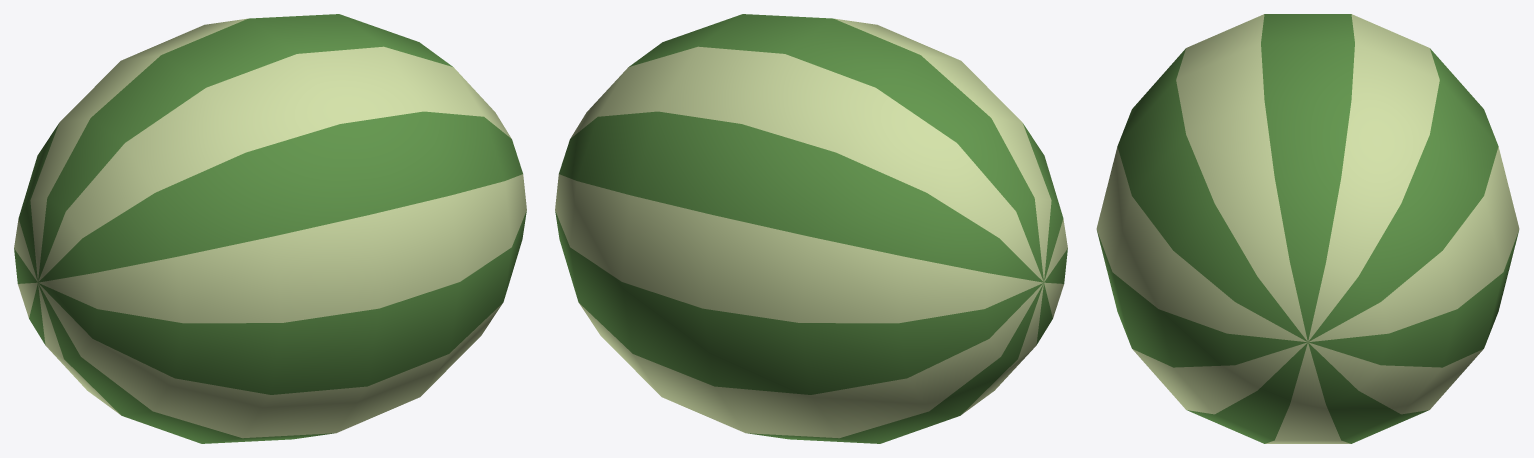
File: FoodWatermelon_01.glb
3 views of the same model, side by side, from view 1: azimuth 30°, elevation 25°; view 2: azimuth 150°, elevation 25°; view 3: azimuth 270°, elevation 25° (orthographic). The views are drawn at different scales.
Visible parts, largest first — view 1: FoodWatermelon_01; view 2: FoodWatermelon_01; view 3: FoodWatermelon_01.
Part boxes in pixels (x1,y1,x2,y2): FoodWatermelon_01: [14, 14, 526, 443]; FoodWatermelon_01: [555, 14, 1067, 443]; FoodWatermelon_01: [1096, 14, 1519, 443].
Size of what is drawn, in the model's own units: 0.6853 by 0.5412 by 0.5552.
Materials: 1 (1 with a texture image).
